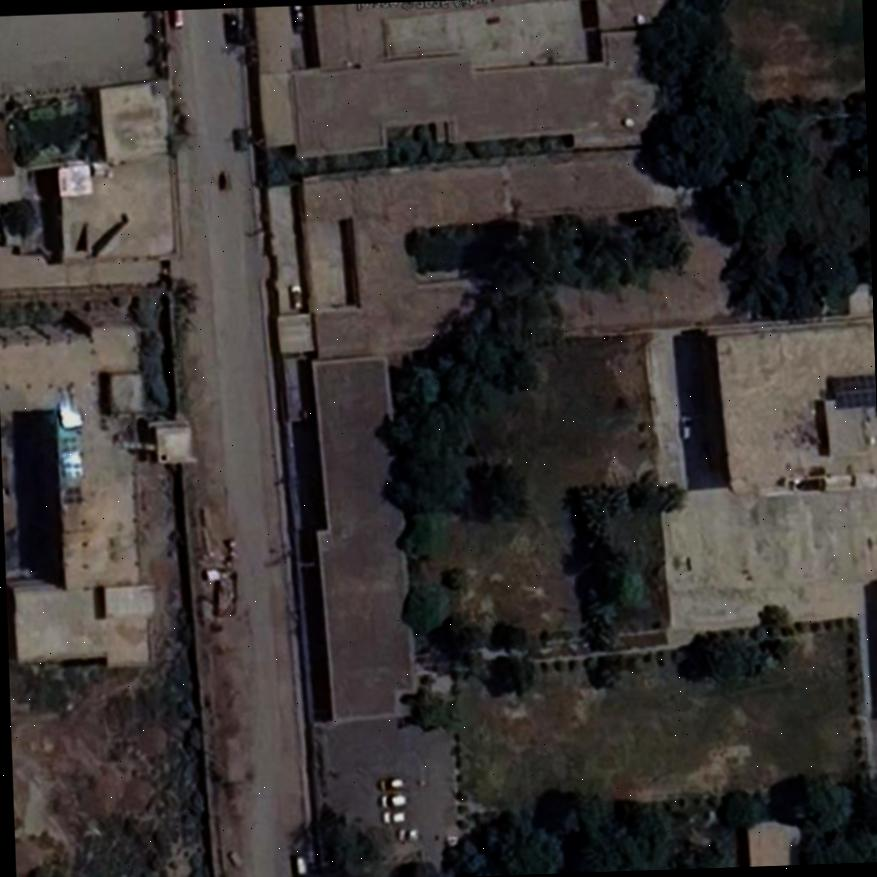Solarpanel: (831, 373, 875, 407)
